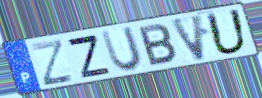B: (137, 23, 179, 69)
U: (204, 7, 250, 57), (99, 24, 145, 73)
V: (168, 12, 208, 63)
Z: (29, 37, 76, 88), (64, 34, 113, 80)
